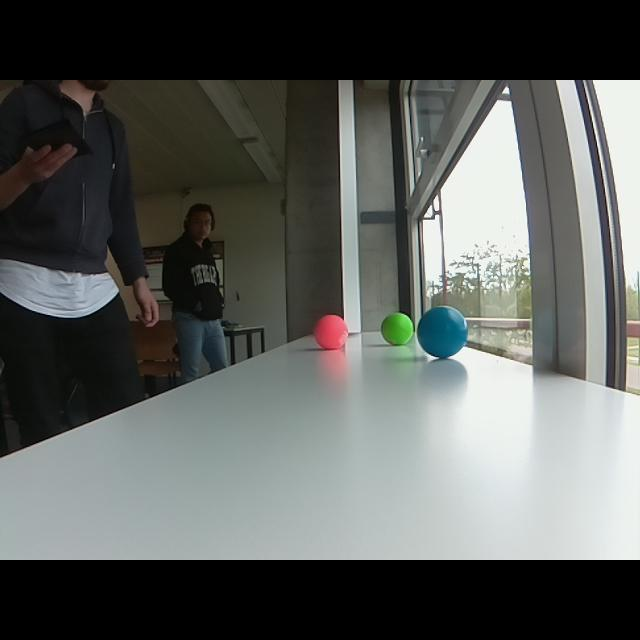ball: (415, 303, 470, 361), (312, 312, 349, 353), (379, 309, 415, 347)
